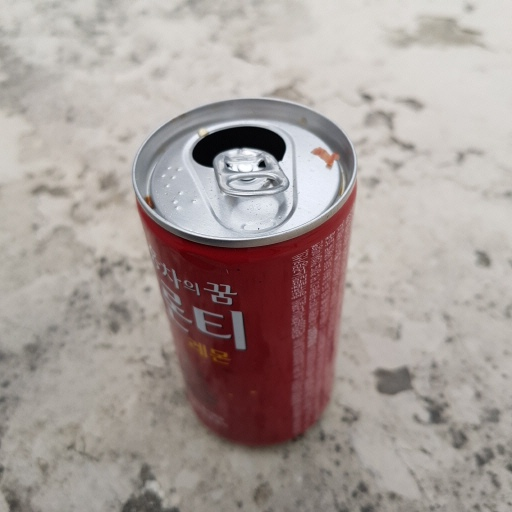Metal_0: (128, 96, 362, 450)
